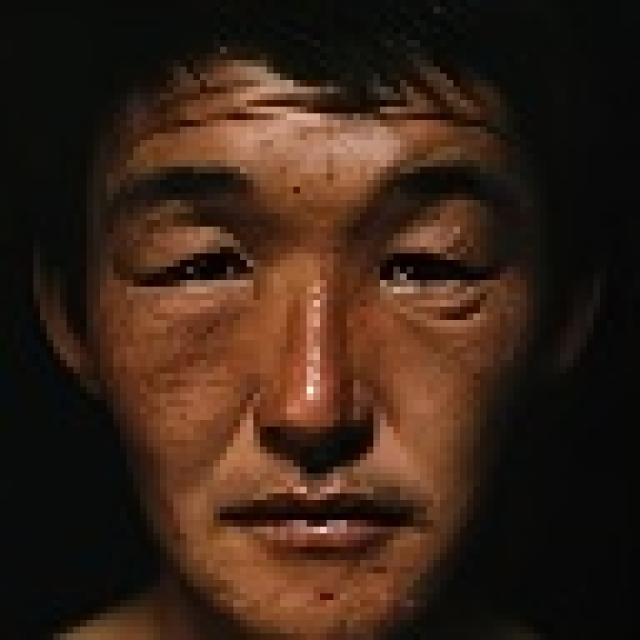sad: (65, 85, 555, 640)
